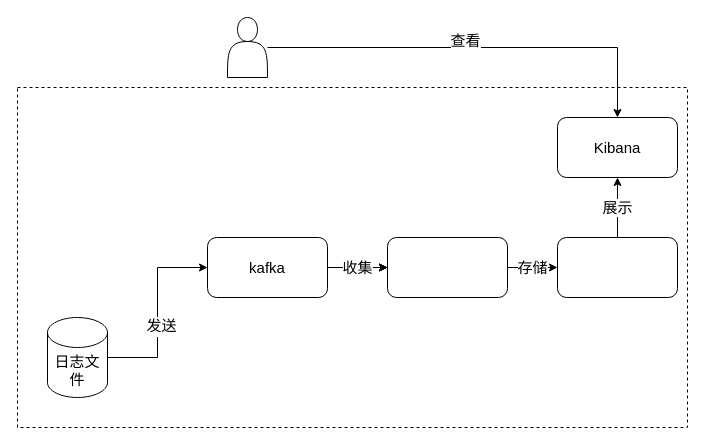
This 705x445 diagram has some shape labels left out. Each missing label, with the box of its shape:
ElasticSearch: (556, 236, 678, 298)
logstash: (386, 236, 508, 298)
